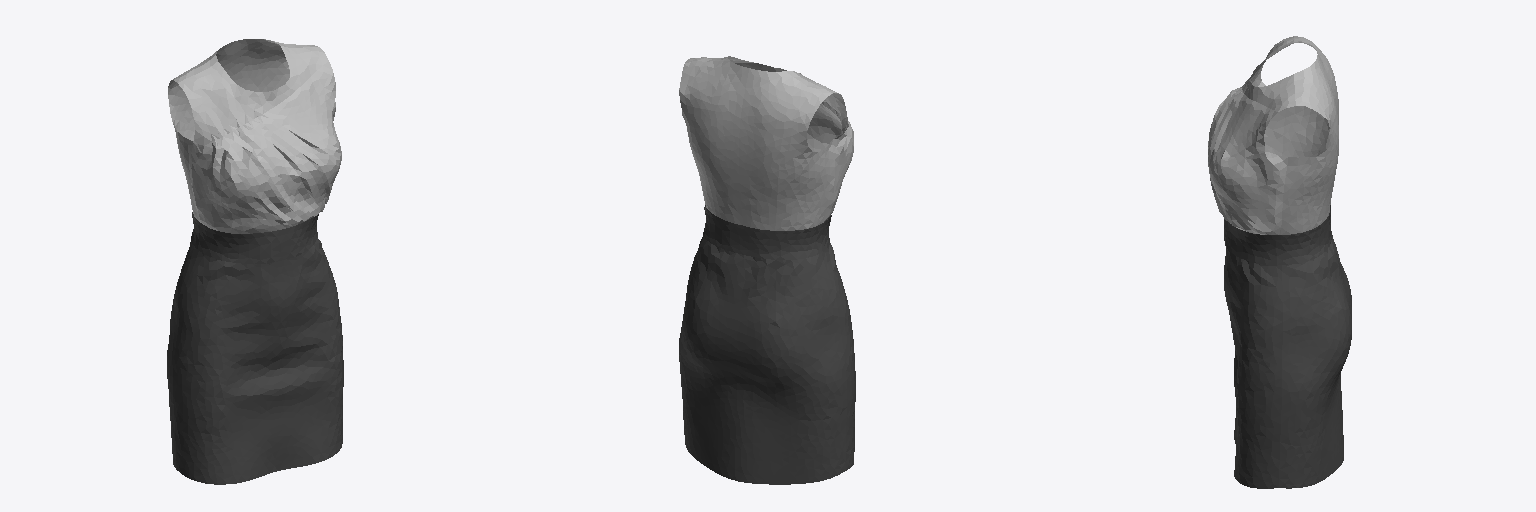
The model's file is dress2.obj.
3 views of the same model, side by side, from view 1: azimuth 30°, elevation 25°; view 2: azimuth 150°, elevation 25°; view 3: azimuth 270°, elevation 25° (orthographic).
Bounding box in the file's own units: 349 × 830 × 270.